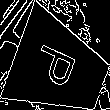P_E: (33, 42, 87, 95)
